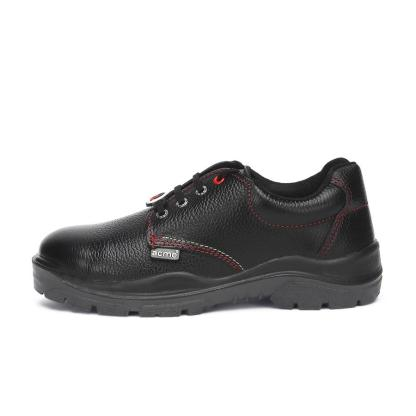bota: (27, 153, 388, 323)
